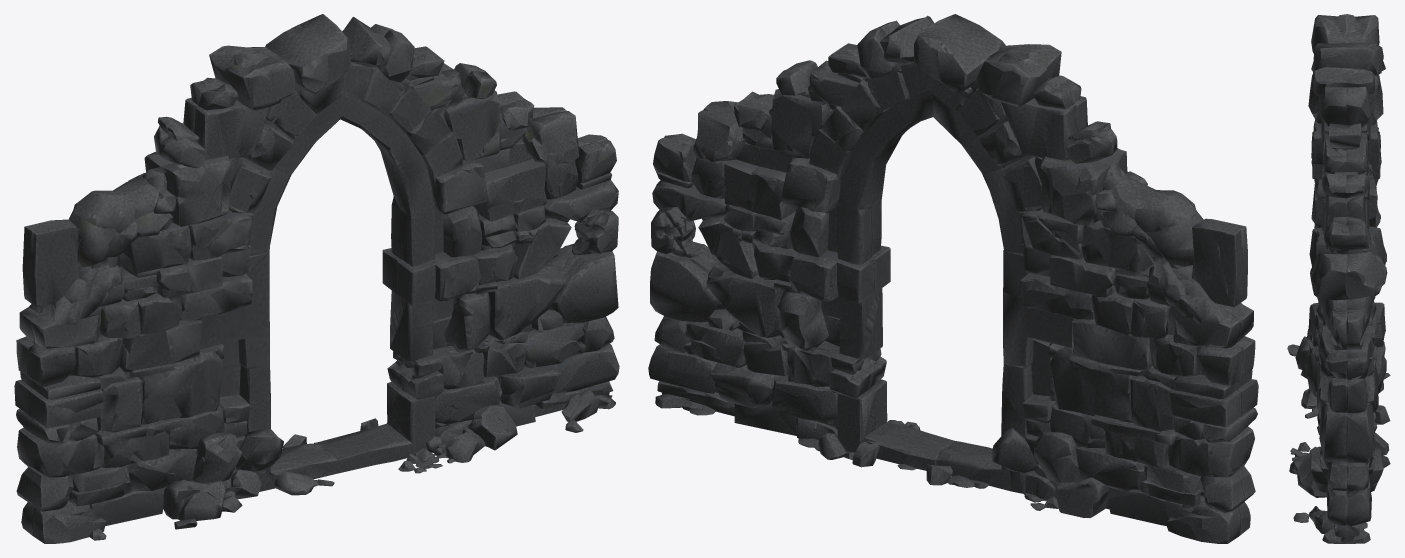
Rendered from env-wall.glb.
3 renders of one model, left to right at view 1: azimuth 30°, elevation 25°; view 2: azimuth 150°, elevation 25°; view 3: azimuth 270°, elevation 25°, orthographic. The views are drawn at different scales.
Bounding box in the file's own units: 1.9 × 1.37 × 0.3347.
1 material, 1 textured.
